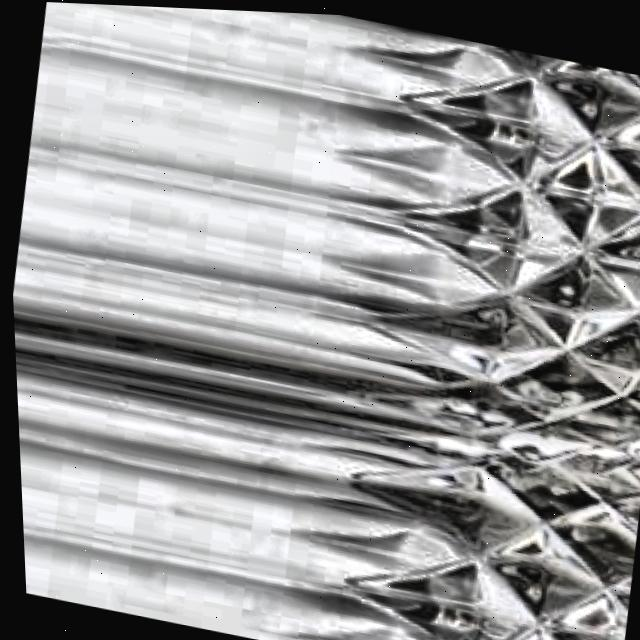glass: (10, 2, 640, 640)
